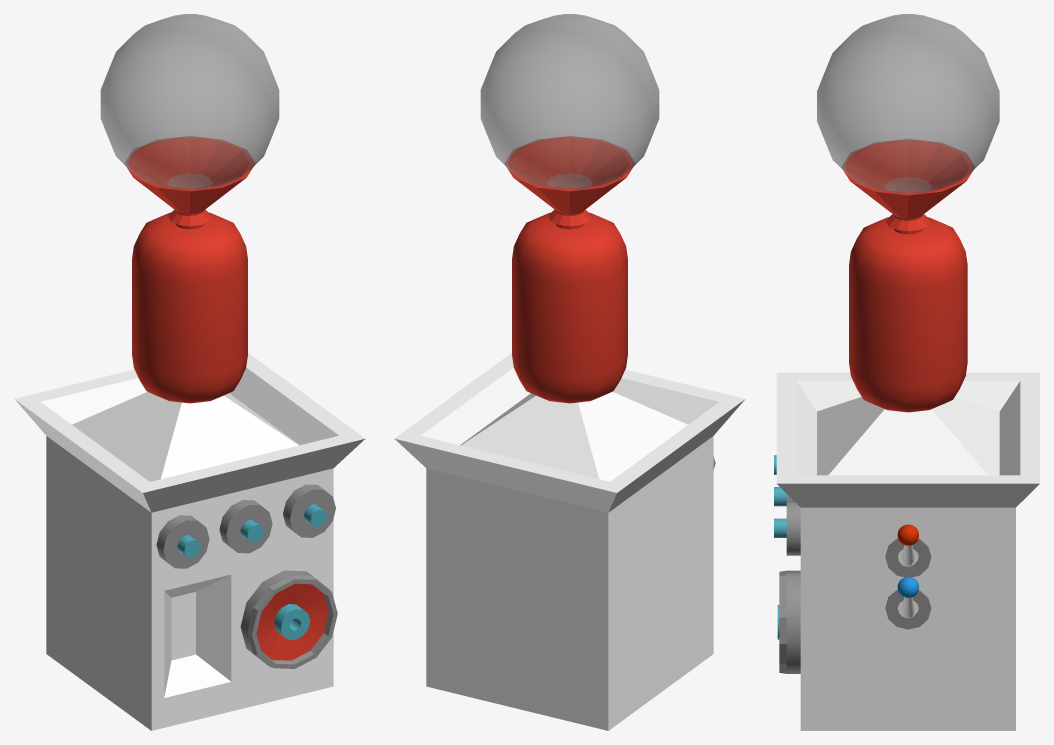
3 views of the same model, side by side, from view 1: azimuth 30°, elevation 25°; view 2: azimuth 150°, elevation 25°; view 3: azimuth 270°, elevation 25° (orthographic). The views are drawn at different scales.
Visible parts, largest first — view 1: Box001, Capsule001, Sphere001, Tube004, Tube005, Tube001, Tube002, Tube003, Tube006; view 2: Box001, Capsule001, Sphere001; view 3: Box001, Capsule001, Sphere001, Tube005, Tube007, Tube008, Tube003.
Part boxes in pixels (<box>): Box001: <box>14,353,365,730</box>; Capsule001: <box>125,136,254,403</box>; Sphere001: <box>100,14,279,189</box>; Tube004: <box>256,583,328,660</box>; Tube005: <box>240,570,337,668</box>; Tube001: <box>156,515,209,568</box>; Tube002: <box>219,500,272,553</box>; Tube003: <box>283,484,335,537</box>; Tube006: <box>274,604,310,639</box>; Box001: <box>394,353,745,730</box>; Capsule001: <box>505,136,634,403</box>; Sphere001: <box>480,14,659,189</box>; Box001: <box>776,372,1039,730</box>; Capsule001: <box>841,139,974,412</box>; Sphere001: <box>817,14,999,193</box>; Tube005: <box>779,570,800,673</box>; Tube007: <box>885,538,931,577</box>; Tube008: <box>885,589,931,629</box>; Tube003: <box>786,501,800,555</box>.
Bounding box in the file's own units: 68.81 × 170 × 61.79.
